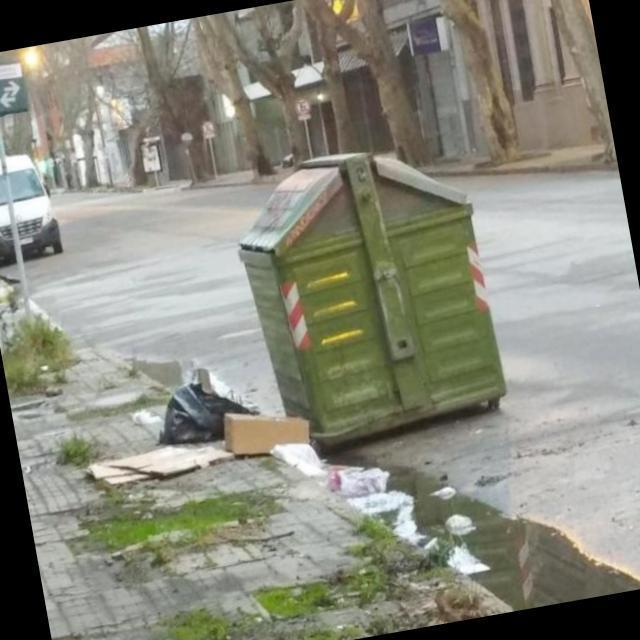garbage: (64, 345, 335, 521), (284, 404, 508, 608)
